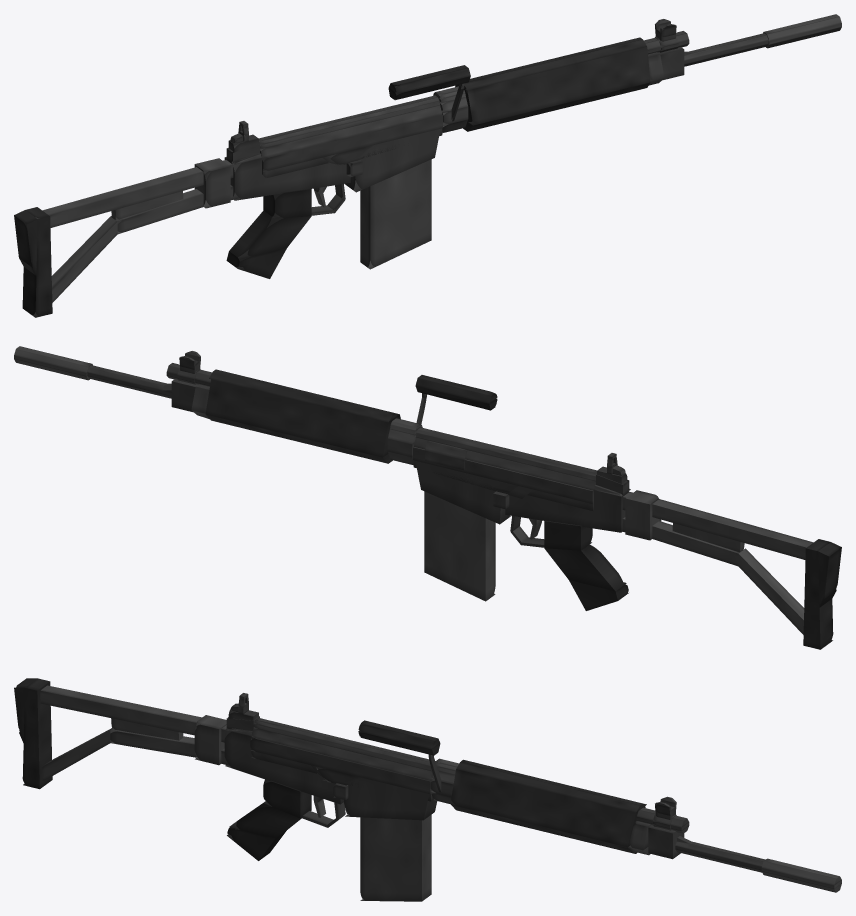
File: parafal.obj
The picture shows the model from 3 angles, top to bottom: view 1: azimuth 30°, elevation 25°; view 2: azimuth 150°, elevation 25°; view 3: azimuth 330°, elevation 25°; orthographic projection.
Visible parts, largest first — view 1: gunModel28, ammoModel0, gunModel63, gunModel1, gunModel4, gunModel10, gunModel16, gunModel14, gunModel29, gunModel5, gunModel65, gunModel64 (+12 smaller); view 2: gunModel28, ammoModel0, gunModel63, gunModel1, gunModel4, gunModel16, gunModel29, gunModel10, gunModel14, gunModel65, gunModel5, gunModel64 (+13 smaller); view 3: gunModel28, ammoModel0, gunModel63, gunModel4, gunModel1, gunModel16, gunModel10, gunModel29, gunModel5, gunModel14, gunModel64, gunModel62 (+15 smaller).
Part boxes in pixels (<box>): gunModel28: <box>455,47,650,123</box>; ammoModel0: <box>360,159,431,269</box>; gunModel63: <box>24,167,203,228</box>; gunModel1: <box>224,148,350,200</box>; gunModel4: <box>345,129,440,192</box>; gunModel10: <box>262,115,442,171</box>; gunModel16: <box>22,207,52,317</box>; gunModel14: <box>229,210,311,259</box>; gunModel29: <box>464,37,646,90</box>; gunModel5: <box>260,105,442,158</box>; gunModel65: <box>51,216,117,302</box>; gunModel64: <box>111,189,203,234</box>; gunModel28: <box>205,379,400,457</box>; ammoModel0: <box>424,491,495,601</box>; gunModel63: <box>652,499,813,559</box>; gunModel1: <box>505,490,628,532</box>; gunModel4: <box>415,461,510,524</box>; gunModel16: <box>803,539,833,649</box>; gunModel29: <box>209,369,399,422</box>; gunModel10: <box>413,447,593,503</box>; gunModel14: <box>544,544,626,591</box>; gunModel65: <box>738,548,804,634</box>; gunModel5: <box>413,437,595,490</box>; gunModel64: <box>652,521,739,566</box>; gunModel28: <box>451,769,645,847</box>; ammoModel0: <box>360,815,431,901</box>; gunModel63: <box>40,685,201,735</box>; gunModel4: <box>344,777,437,820</box>; gunModel1: <box>224,731,343,804</box>; gunModel16: <box>22,678,52,789</box>; gunModel10: <box>250,737,430,794</box>; gunModel29: <box>456,759,646,812</box>; gunModel5: <box>251,724,432,780</box>; gunModel14: <box>229,801,301,838</box>; gunModel64: <box>110,728,197,757</box>; gunModel62: <box>194,715,226,765</box>.
Size of the model in its own units: 33.2 by 7.35 by 2.17.
